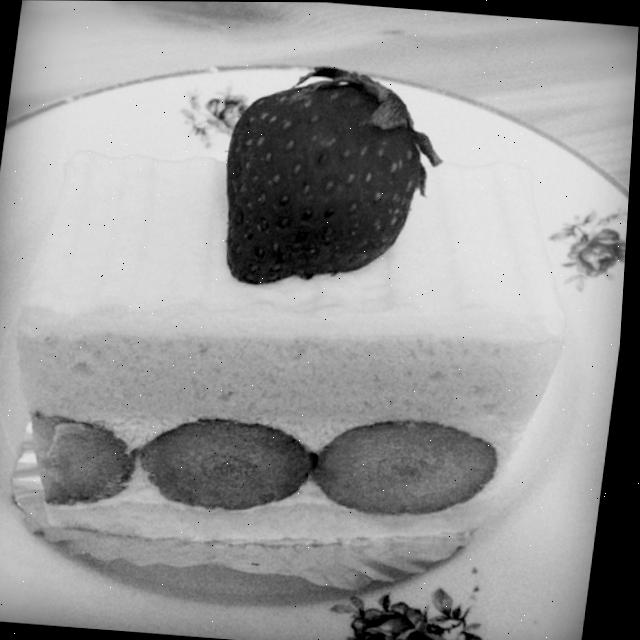蛋糕甜品: (0, 18, 636, 640)
